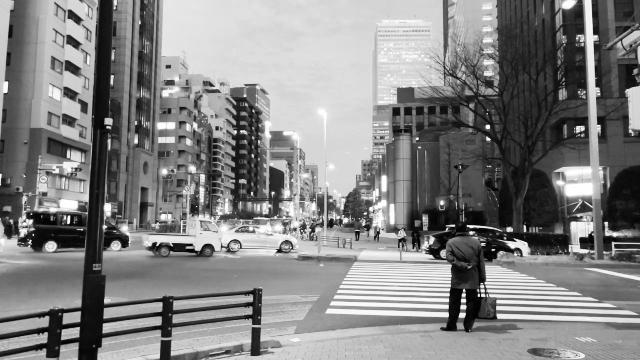berdiri: (437, 220, 497, 336)
